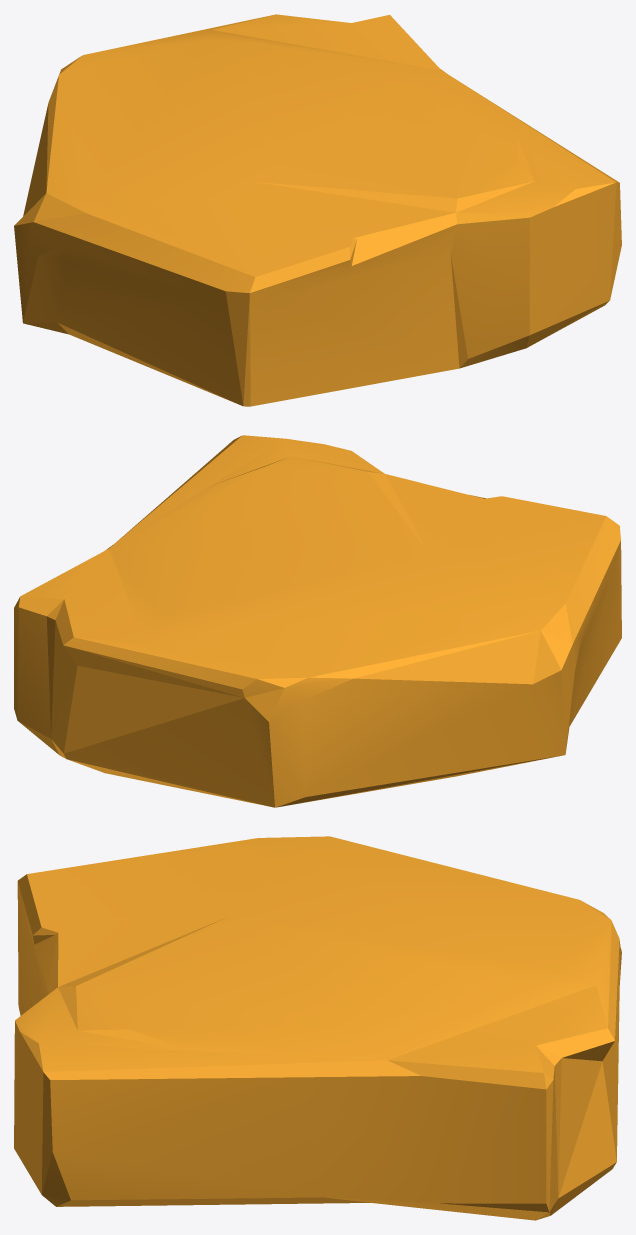
Rendered from SM_Iceberg_Tiny_C_Plane.fbx.
3 views of the same model, one above another, from view 1: azimuth 30°, elevation 25°; view 2: azimuth 150°, elevation 25°; view 3: azimuth 270°, elevation 25° (orthographic). The views are drawn at different scales.
Parts seen in each view (by area): view 1: iceberg-tiny-c-plane; view 2: iceberg-tiny-c-plane; view 3: iceberg-tiny-c-plane.
Boxes of the visible parts, x1=… form: iceberg-tiny-c-plane: x1=14, y1=14, x2=621, y2=406; iceberg-tiny-c-plane: x1=14, y1=435, x2=621, y2=807; iceberg-tiny-c-plane: x1=14, y1=836, x2=621, y2=1220.
Bounding box in the file's own units: 0.4983 × 0.1991 × 0.5032.
